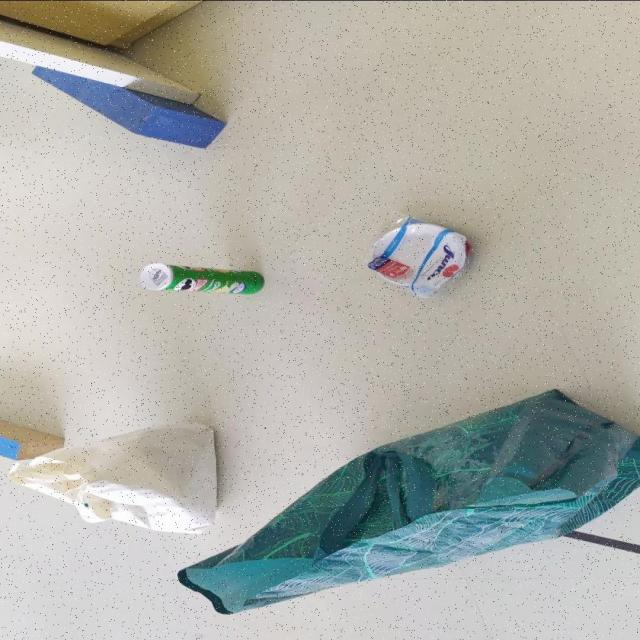Bag: (182, 387, 640, 613), (8, 419, 225, 534)
Plate: (365, 222, 471, 292)
Pringles: (137, 262, 266, 294)
